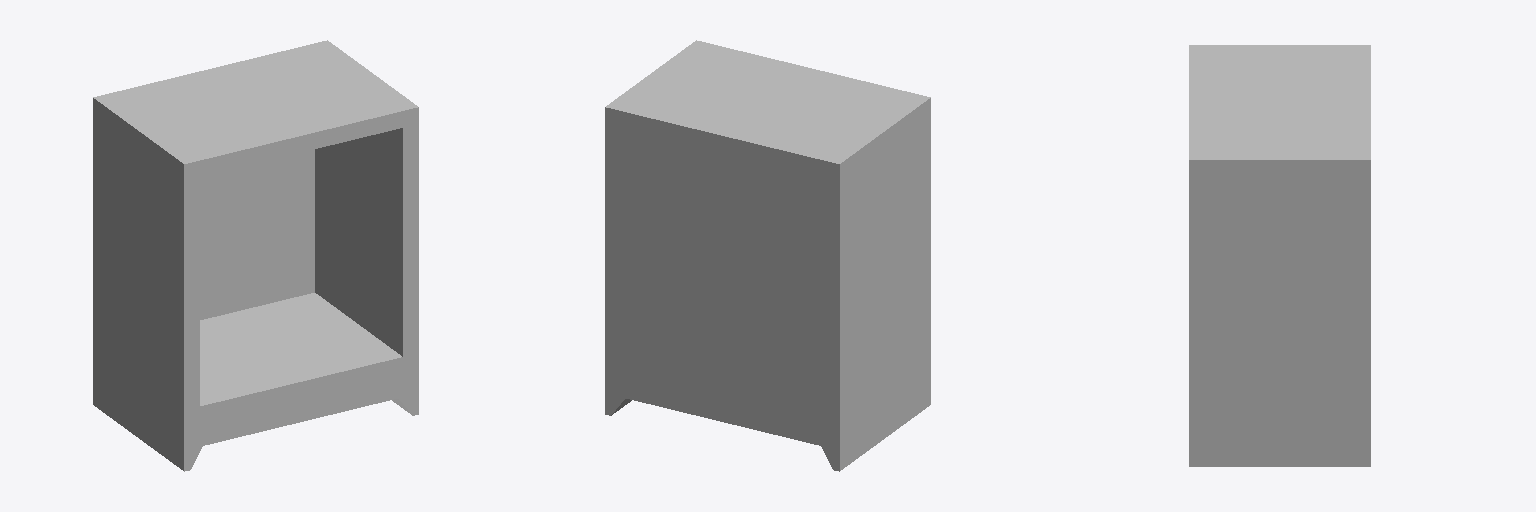
Rendered from woodStorage.obj.
3 renders of one model, left to right at view 1: azimuth 30°, elevation 25°; view 2: azimuth 150°, elevation 25°; view 3: azimuth 270°, elevation 25°, orthographic.
Parts seen in each view (by area): view 1: Cube; view 2: Cube; view 3: Cube.
Boxes of the visible parts, x1,y1,x2,y2 form: Cube: [93, 40, 418, 471]; Cube: [605, 40, 930, 471]; Cube: [1189, 45, 1370, 466].
Bounding box in the file's own units: 2 × 2.5 × 1.35.